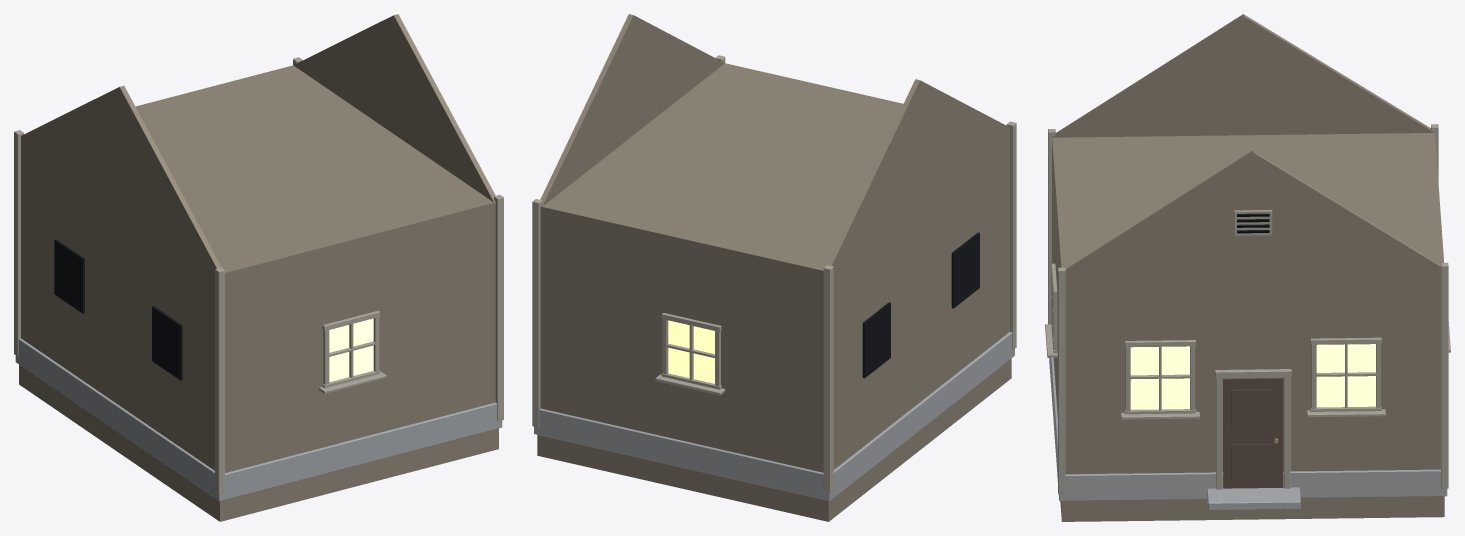
Rendered from house4_walls.glb.
3 views of the same model, side by side, from view 1: azimuth 30°, elevation 25°; view 2: azimuth 150°, elevation 25°; view 3: azimuth 270°, elevation 25° (orthographic).
Parts seen in each view (by area): view 1: house4_walls; view 2: house4_walls; view 3: house4_walls.
Boxes of the visible parts, x1,y1,x2,y2 form: house4_walls: (14,14,503,521); house4_walls: (532,14,1016,521); house4_walls: (1045,14,1450,521).
Size of the model in its own units: 6.87 by 7.4 by 7.42.
